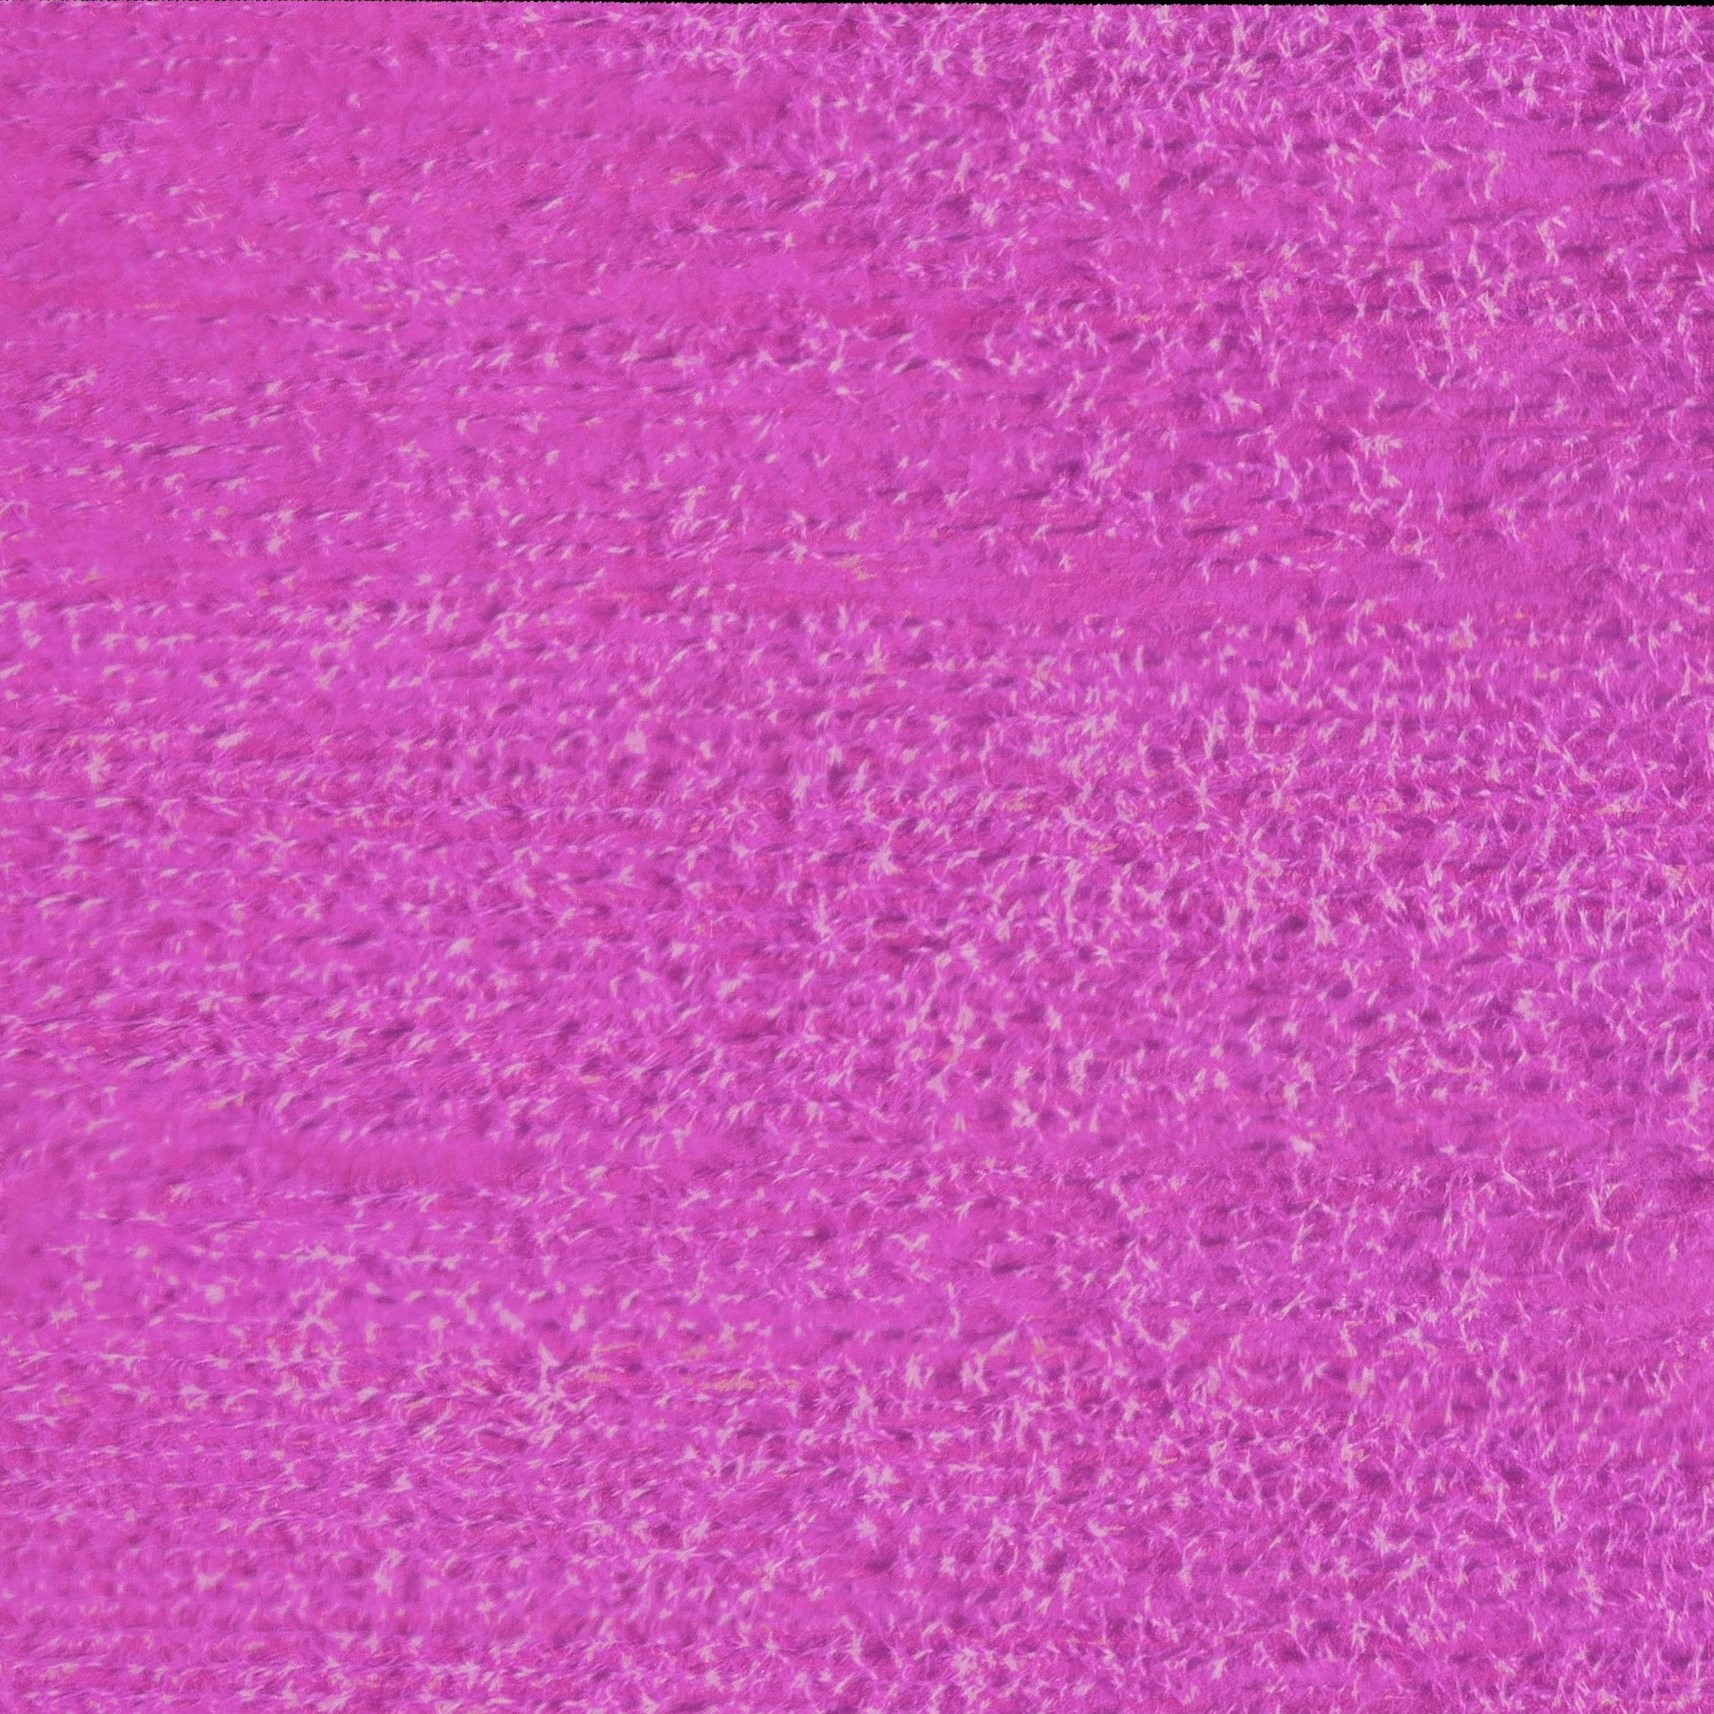plant: (1446, 1194, 1488, 1246), (1154, 976, 1191, 1031), (1540, 733, 1576, 786), (1059, 852, 1085, 928), (1038, 36, 1067, 99), (1000, 1679, 1066, 1708), (797, 334, 844, 374), (1337, 1431, 1369, 1490), (1121, 1279, 1149, 1342), (1595, 907, 1634, 951), (1113, 47, 1158, 85), (465, 1573, 499, 1621), (1598, 786, 1647, 819), (1358, 818, 1386, 874), (1628, 607, 1664, 651), (1678, 1072, 1706, 1127), (1639, 1466, 1676, 1507), (698, 1044, 735, 1086), (1513, 67, 1548, 111), (1282, 1059, 1314, 1107), (1559, 852, 1595, 893), (1399, 57, 1439, 93), (450, 1661, 502, 1689), (1388, 1044, 1417, 1092), (633, 1129, 666, 1172), (1654, 859, 1687, 903), (494, 611, 532, 648), (1442, 1425, 1493, 1453), (1518, 648, 1554, 687), (1245, 851, 1279, 892), (1110, 1174, 1143, 1216), (303, 1238, 352, 1267), (1257, 755, 1303, 785), (705, 1453, 744, 1488), (892, 143, 924, 184), (1408, 261, 1435, 311), (1194, 1366, 1223, 1413), (1242, 684, 1262, 749), (1614, 995, 1643, 1039), (1656, 942, 1686, 986), (1144, 326, 1174, 370), (1496, 1162, 1532, 1198), (1298, 1355, 1333, 1392), (1325, 141, 1359, 179), (1535, 217, 1562, 265), (1532, 892, 1565, 931), (1656, 1590, 1689, 1629), (1205, 1441, 1234, 1486), (1188, 1067, 1234, 1096), (1441, 673, 1472, 714), (1610, 42, 1642, 83), (1621, 89, 1651, 132), (1312, 895, 1337, 945), (512, 1388, 559, 1414), (921, 772, 957, 807), (435, 276, 479, 305), (703, 611, 736, 648), (1486, 882, 1519, 920), (1490, 499, 1523, 537), (1419, 786, 1458, 818), (1420, 899, 1452, 939), (1224, 91, 1256, 130), (1348, 788, 1400, 811), (1529, 815, 1559, 855), (680, 488, 706, 534), (1461, 1270, 1488, 1315), (1587, 1182, 1614, 1227), (396, 1251, 460, 1270), (785, 510, 807, 565), (866, 1460, 895, 1502), (392, 895, 435, 923), (1486, 1651, 1519, 1687), (1446, 618, 1479, 655), (970, 785, 1006, 818), (810, 896, 835, 943), (1074, 82, 1099, 129), (1282, 1223, 1314, 1260), (1198, 716, 1226, 757), (1679, 1668, 1708, 1709), (622, 802, 662, 830), (1402, 1475, 1425, 1524), (1218, 392, 1264, 418), (1370, 22, 1403, 57), (1125, 1240, 1162, 1271), (1025, 1359, 1056, 1395), (1061, 749, 1103, 775), (854, 1380, 881, 1422), (1552, 1676, 1590, 1706), (1097, 1647, 1125, 1686), (1544, 1482, 1568, 1529), (1573, 1566, 1598, 1610), (1078, 713, 1119, 739), (1149, 1435, 1190, 1461), (1581, 662, 1621, 689), (1417, 863, 1450, 896), (1565, 965, 1599, 997), (1403, 1615, 1438, 1647), (1315, 841, 1345, 877), (1356, 432, 1402, 455), (237, 1661, 265, 1698), (667, 352, 709, 377), (1339, 1317, 1364, 1359), (1353, 480, 1381, 518), (1480, 57, 1508, 94), (633, 959, 661, 997), (1279, 1001, 1307, 1039), (1388, 722, 1405, 783), (477, 345, 516, 372), (866, 13, 906, 39), (326, 997, 374, 1019), (1070, 1047, 1092, 1094), (636, 666, 669, 697), (389, 837, 424, 866), (1479, 1369, 1508, 1403), (458, 791, 494, 819), (1034, 110, 1063, 146), (1395, 1325, 1431, 1353), (1223, 49, 1259, 77), (516, 802, 552, 830), (863, 807, 901, 833), (1083, 11, 1110, 49), (1614, 446, 1636, 491), (516, 1420, 559, 1444), (835, 1045, 859, 1088), (829, 609, 871, 633), (1229, 1391, 1260, 1422), (1629, 1647, 1661, 1678), (1285, 1614, 1315, 1647), (1377, 884, 1406, 917), (680, 1183, 709, 1216), (449, 1289, 477, 1323), (1163, 1315, 1191, 1350), (1271, 1428, 1306, 1457), (1512, 987, 1540, 1022), (717, 794, 744, 830), (994, 903, 1020, 939), (1031, 658, 1058, 694), (603, 865, 644, 888), (491, 1303, 523, 1333), (716, 975, 746, 1006), (918, 44, 950, 74), (953, 1648, 983, 1679), (1344, 1620, 1373, 1651), (396, 436, 428, 465), (1100, 1355, 1129, 1388), (1155, 1617, 1183, 1650), (873, 1163, 915, 1185), (683, 1521, 706, 1560), (683, 44, 722, 67), (956, 939, 983, 973), (1399, 529, 1435, 554), (779, 1155, 815, 1180), (678, 841, 709, 870), (1116, 1395, 1147, 1424), (1377, 651, 1405, 683), (1651, 53, 1683, 82), (620, 1058, 651, 1086), (961, 1355, 987, 1388), (906, 1355, 932, 1388), (1234, 818, 1267, 844), (680, 14, 714, 39), (1551, 305, 1585, 330), (862, 640, 887, 675), (378, 768, 418, 790), (1447, 1549, 1469, 1588), (535, 1224, 574, 1246), (1490, 1480, 1508, 1526), (760, 1552, 783, 1588), (582, 1637, 618, 1661), (1351, 1367, 1375, 1403), (1276, 130, 1300, 166), (1039, 1005, 1067, 1034), (1369, 1530, 1399, 1559), (1227, 13, 1256, 42), (458, 731, 487, 761), (870, 843, 896, 874), (1334, 1554, 1361, 1585), (923, 709, 954, 736), (322, 1355, 342, 1395), (953, 151, 973, 191), (275, 1380, 308, 1405), (392, 1388, 425, 1413), (1114, 788, 1136, 826), (1676, 17, 1701, 50), (568, 1303, 593, 1336), (1581, 1409, 1606, 1442), (584, 1519, 618, 1543), (727, 49, 750, 83), (1493, 1565, 1516, 1599), (1243, 1019, 1267, 1053), (505, 540, 545, 560), (1218, 899, 1238, 939), (1529, 1610, 1549, 1650), (556, 702, 595, 722), (1059, 805, 1088, 833), (1121, 11, 1149, 39), (454, 1447, 482, 1475), (85, 753, 111, 783), (622, 724, 648, 753), (752, 345, 782, 372), (800, 1008, 822, 1044), (1012, 1402, 1034, 1438), (1000, 1651, 1031, 1676), (892, 1042, 924, 1066), (1409, 753, 1442, 777), (1020, 736, 1053, 760), (99, 1350, 140, 1369), (1020, 713, 1061, 731), (505, 1094, 527, 1129), (228, 1039, 254, 1067), (717, 1414, 744, 1442), (531, 345, 560, 370), (783, 775, 808, 805), (724, 1100, 753, 1125), (1155, 9, 1180, 39), (637, 1005, 667, 1030), (159, 797, 182, 829), (965, 44, 989, 75), (841, 1632, 865, 1664), (1358, 717, 1381, 749), (1198, 91, 1216, 130), (42, 1659, 78, 1679), (1673, 298, 1694, 334), (1025, 1540, 1047, 1573), (972, 199, 998, 226), (1089, 454, 1116, 480), (1155, 854, 1182, 881), (1290, 1132, 1317, 1158), (691, 1639, 719, 1664), (1014, 1100, 1039, 1129), (928, 1067, 953, 1096), (1425, 1052, 1453, 1077), (1482, 287, 1501, 325), (810, 94, 851, 111), (476, 472, 505, 496), (16, 1411, 60, 1427), (1078, 322, 1100, 353), (1179, 1540, 1210, 1562), (1303, 1554, 1325, 1585), (501, 1056, 532, 1078), (877, 981, 909, 1003), (535, 1340, 554, 1377), (724, 24, 760, 42), (1059, 374, 1078, 410), (1056, 1566, 1074, 1606), (261, 832, 294, 852), (989, 166, 1022, 187), (1395, 1565, 1428, 1585), (1355, 63, 1388, 83), (1088, 684, 1121, 705), (410, 1030, 435, 1056), (840, 1422, 866, 1447), (333, 1030, 356, 1058), (1436, 826, 1464, 849), (278, 764, 308, 786), (1044, 1463, 1066, 1493), (1138, 885, 1168, 907), (843, 1259, 873, 1281), (574, 937, 604, 959), (116, 1383, 151, 1402), (342, 246, 377, 265), (1088, 1512, 1107, 1546), (168, 441, 209, 457), (794, 195, 826, 215), (510, 874, 535, 899), (348, 800, 374, 826), (910, 1009, 935, 1034), (989, 1519, 1014, 1544), (1268, 100, 1293, 126), (651, 1359, 676, 1384), (414, 994, 443, 1016), (509, 844, 542, 863), (1271, 455, 1293, 483), (636, 1548, 656, 1577), (800, 614, 821, 644), (424, 595, 441, 629), (182, 1384, 207, 1408), (816, 163, 841, 187), (1248, 903, 1260, 950), (1168, 1486, 1191, 1512), (1205, 1656, 1229, 1681), (374, 1570, 396, 1596), (802, 1099, 824, 1125), (1420, 8, 1442, 35), (1238, 1453, 1259, 1482), (1278, 240, 1298, 268), (505, 1191, 534, 1212), (538, 1253, 559, 1281), (1196, 775, 1212, 811), (644, 35, 662, 64), (946, 1034, 965, 1064), (1431, 315, 1450, 345), (389, 1471, 413, 1494), (686, 1278, 709, 1301), (275, 1089, 297, 1114), (617, 345, 642, 367), (906, 1234, 931, 1256), (851, 768, 873, 793), (1334, 334, 1359, 356), (582, 1165, 607, 1187), (344, 604, 370, 625), (449, 501, 476, 521), (523, 408, 543, 435), (954, 1003, 975, 1030), (964, 1684, 990, 1705), (55, 863, 86, 881), (163, 1056, 198, 1072), (268, 1339, 286, 1370), (899, 235, 934, 251), (315, 666, 339, 687), (163, 469, 187, 491), (1008, 352, 1031, 374), (1483, 757, 1507, 779), (1380, 1300, 1403, 1322), (1334, 686, 1358, 708), (1264, 281, 1285, 305), (454, 937, 474, 962), (367, 221, 388, 246), (400, 284, 425, 305), (932, 356, 957, 377), (537, 1092, 557, 1118), (215, 731, 251, 746), (49, 1502, 75, 1521), (297, 1311, 315, 1337), (322, 1695, 348, 1714), (61, 829, 89, 846), (1039, 1428, 1056, 1457), (631, 1519, 653, 1541), (1092, 946, 1114, 968), (1571, 1647, 1593, 1668), (298, 899, 322, 920), (943, 1158, 964, 1182), (1347, 626, 1367, 650), (199, 408, 237, 421), (100, 633, 126, 651), (38, 986, 63, 1005), (89, 990, 115, 1009), (195, 209, 220, 228), (766, 1636, 785, 1661), (1110, 876, 1122, 914), (760, 676, 772, 714), (63, 606, 93, 622), (85, 730, 115, 746), (983, 881, 1009, 898), (159, 636, 195, 648), (314, 644, 355, 655), (38, 896, 60, 917), (170, 1182, 191, 1202), (202, 1284, 224, 1304), (356, 1384, 378, 1405), (472, 636, 491, 659), (242, 667, 265, 686), (67, 374, 96, 389), (964, 259, 983, 283), (901, 257, 924, 276), (1075, 782, 1094, 805), (93, 794, 127, 807), (195, 1570, 220, 1587), (287, 1028, 312, 1045), (290, 1342, 308, 1367), (386, 676, 425, 687), (198, 994, 224, 1009), (510, 42, 531, 63), (1450, 753, 1471, 774), (16, 603, 38, 622), (454, 1028, 476, 1047), (1012, 132, 1031, 154), (929, 1428, 951, 1447), (298, 607, 322, 625), (53, 1304, 77, 1322), (273, 1045, 290, 1069), (738, 1621, 752, 1650), (221, 476, 246, 491), (1052, 1526, 1067, 1551), (55, 689, 75, 708), (151, 731, 171, 750), (673, 1129, 694, 1147), (1113, 171, 1132, 191), (199, 670, 221, 687), (381, 1548, 403, 1565), (857, 1518, 874, 1540), (1267, 788, 1284, 810), (739, 1226, 761, 1243), (135, 1212, 165, 1224), (126, 1056, 149, 1072), (154, 833, 177, 849), (443, 611, 461, 629), (64, 465, 93, 477), (827, 746, 841, 771), (391, 607, 411, 625), (265, 535, 286, 552), (920, 1193, 940, 1210), (206, 1355, 228, 1370), (126, 441, 152, 454), (24, 1350, 50, 1362), (166, 184, 196, 195), (352, 1424, 381, 1435), (275, 603, 292, 622), (22, 629, 41, 647), (954, 1202, 972, 1221), (213, 1518, 234, 1533), (38, 403, 60, 418), (1179, 1570, 1194, 1588), (209, 527, 229, 542), (100, 466, 122, 479), (78, 899, 104, 910), (276, 507, 292, 524), (849, 520, 863, 538), (96, 1446, 119, 1457), (99, 151, 122, 162), (416, 570, 432, 585), (110, 598, 126, 614), (127, 1662, 144, 1676), (115, 702, 132, 716), (71, 633, 82, 655), (2, 669, 24, 680), (118, 1510, 137, 1523), (154, 1665, 166, 1684), (6, 691, 20, 706), (100, 1085, 115, 1099), (268, 381, 283, 396), (254, 637, 270, 650), (135, 637, 148, 651), (64, 848, 78, 860), (487, 581, 498, 595)
